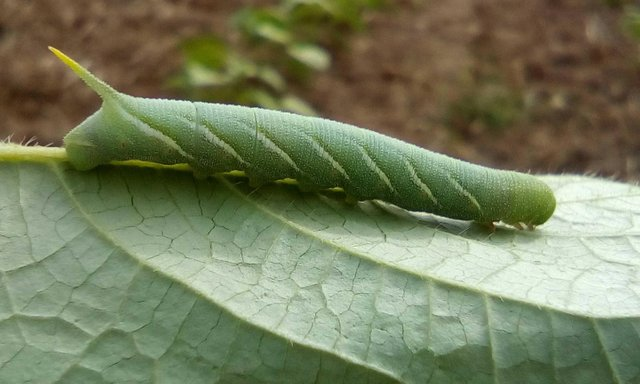Armyworm: (29, 38, 571, 242)
